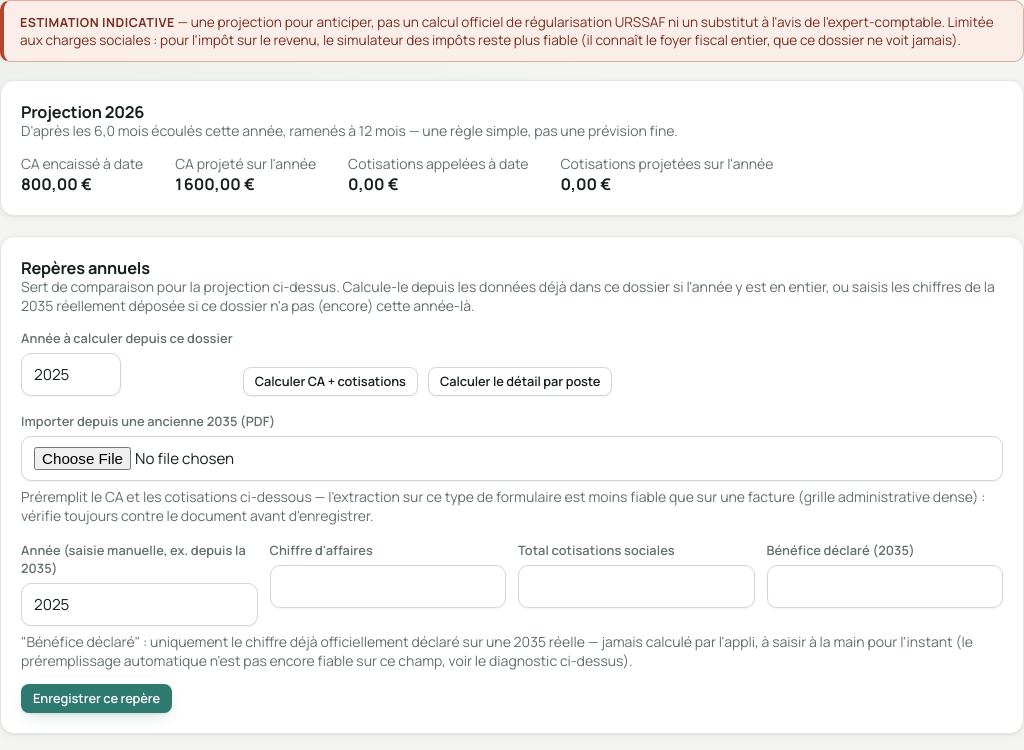
Test: EstimationTab — le détail par poste compte les frais d’un mouvement d’encaissements (étape VF8g) › sans catégorie « Frais bancaires » : dit aussi
The width and height of the screenshot is (1024, 750).
Expected: the heading "Projection 2026" is shown, [21,101,144,123]
Step 1. Replace the text in the number field labelled "Année à calculer depuis ce dossier" with "2026" → (71, 374), box [21,353,121,396]
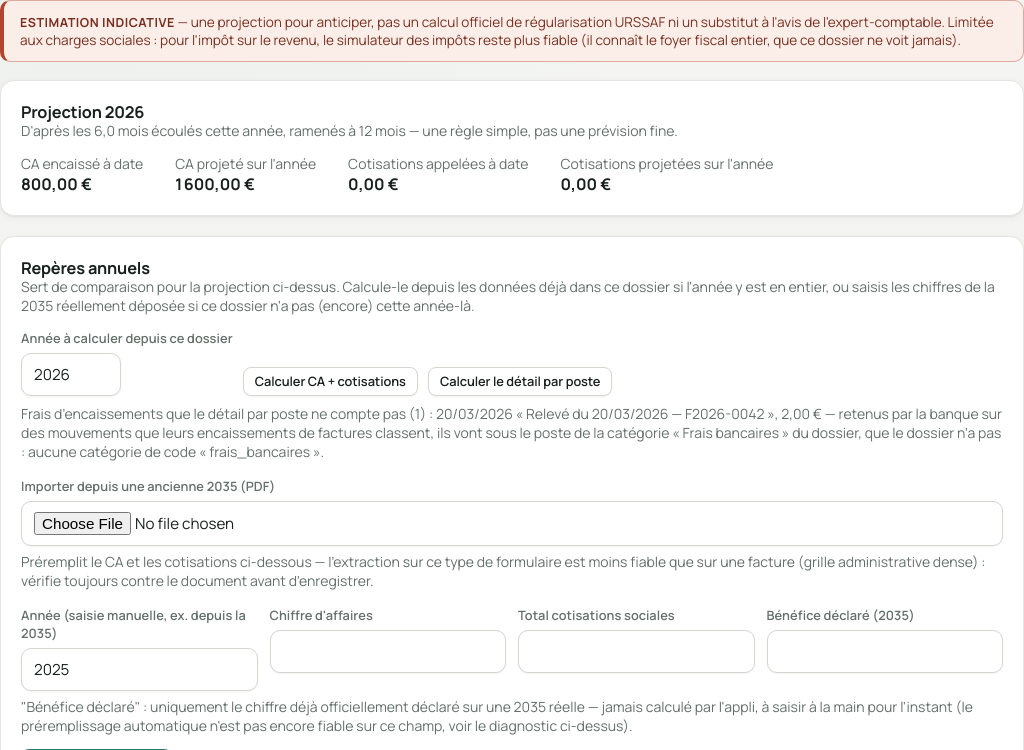
Expected: the text "Frais d’encaissements que le détail par poste ne compte pas (1) : 20/03/2026 « Relevé du 20/03/2026 — F2026-0042 »" shows "que le dossier n’a pas : aucune catégorie de code « frais_bancaires ».", [21,423,1002,461]
